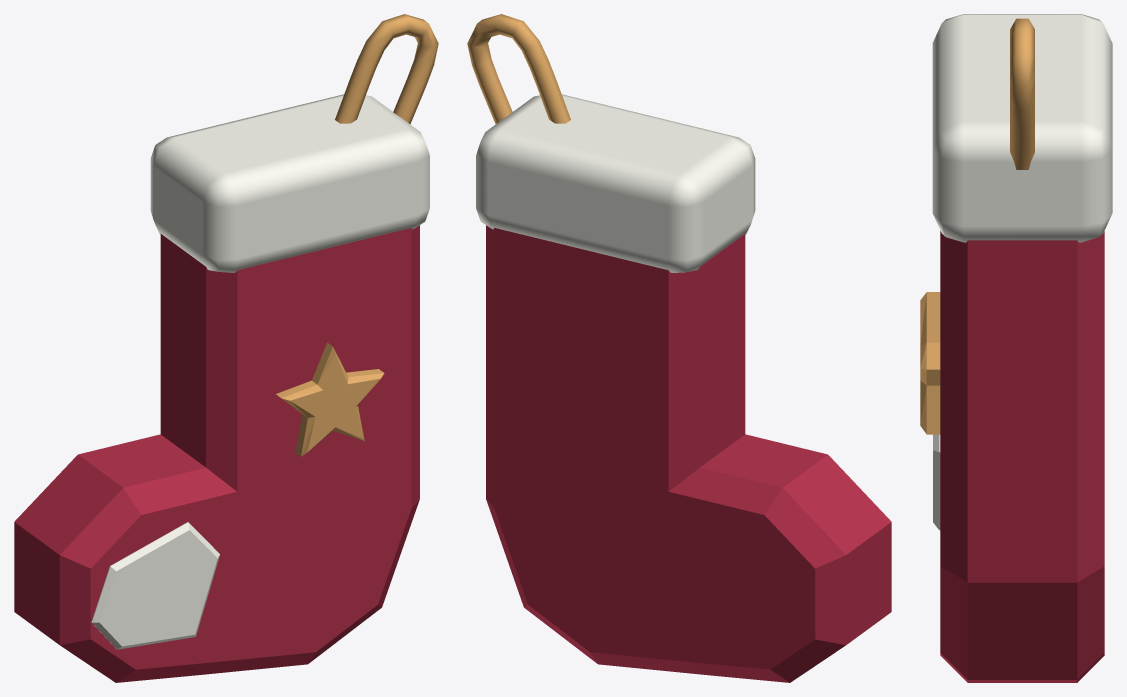
The model's file is storybook-christmas-market-velvet-christmas-stocking-5de71985__19715.glb.
3 renders of one model, left to right at view 1: azimuth 30°, elevation 25°; view 2: azimuth 150°, elevation 25°; view 3: azimuth 270°, elevation 25°, orthographic. The views are drawn at different scales.
Visible parts, largest first — view 1: velvet-christmas-stocking; view 2: velvet-christmas-stocking; view 3: velvet-christmas-stocking.
Boxes of the visible parts, left/top/right/bottom form: velvet-christmas-stocking: left=14, top=14, right=438, bottom=682; velvet-christmas-stocking: left=467, top=14, right=891, bottom=682; velvet-christmas-stocking: left=920, top=14, right=1112, bottom=682.
Bounding box in the file's own units: 0.709 × 1.02 × 0.2455.
